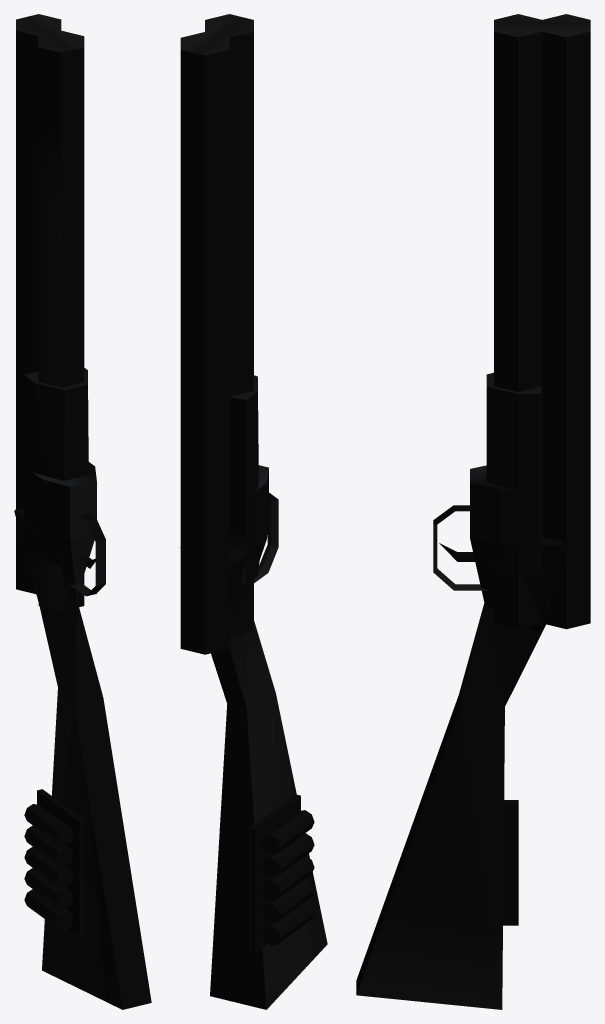
The model's file is Marlin1895GG__ShellHolder_Butt.fbx.
3 renders of one model, left to right at view 1: azimuth 30°, elevation 25°; view 2: azimuth 150°, elevation 25°; view 3: azimuth 270°, elevation 25°, orthographic. The views are drawn at different scales.
Visible parts, largest first — view 1: asset_Marlin1895GG.001; view 2: asset_Marlin1895GG.001; view 3: asset_Marlin1895GG.001.
Part boxes in pixels (x1,y1,x2,y2): asset_Marlin1895GG.001: (14,14,151,1009); asset_Marlin1895GG.001: (180,14,327,1009); asset_Marlin1895GG.001: (356,14,590,1009).
Size of the model in its own units: 0.0447 by 0.57 by 0.1246.
